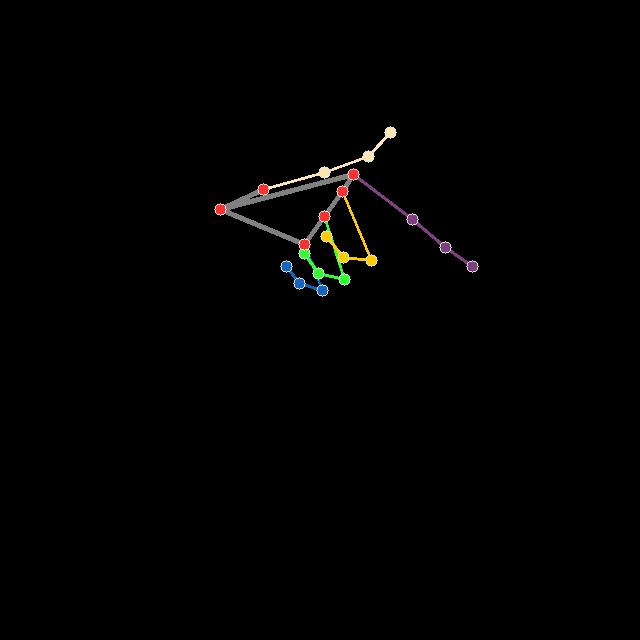gun: (210, 115, 484, 299)
